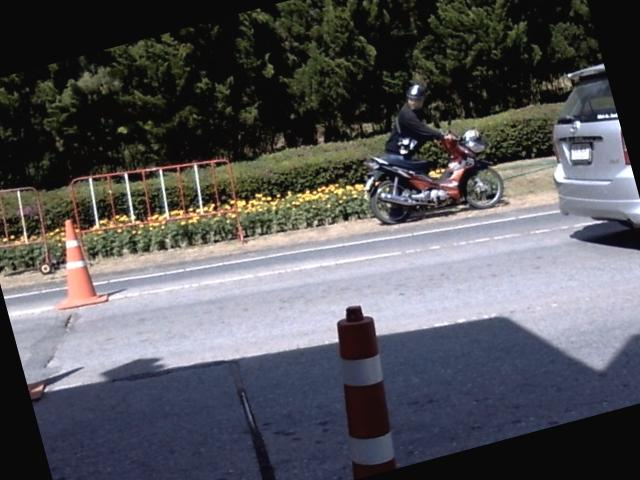helmet: (405, 82, 425, 109)
motor: (364, 128, 503, 223)
person: (385, 83, 445, 159)
